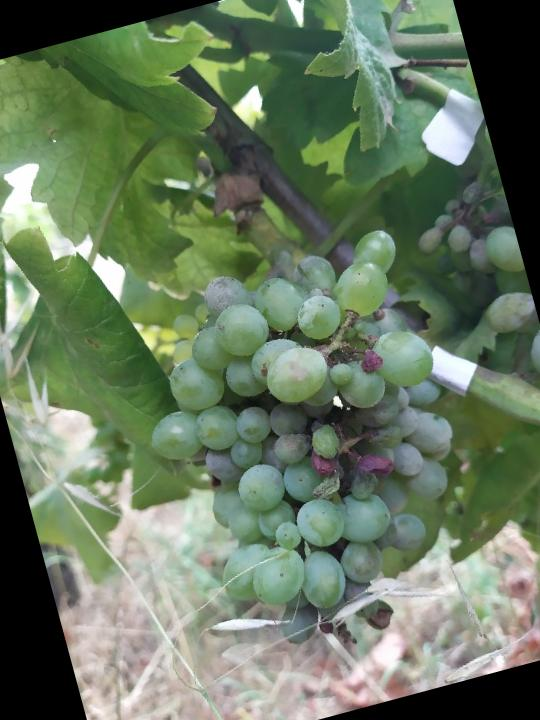grape: (109, 221, 500, 671)
